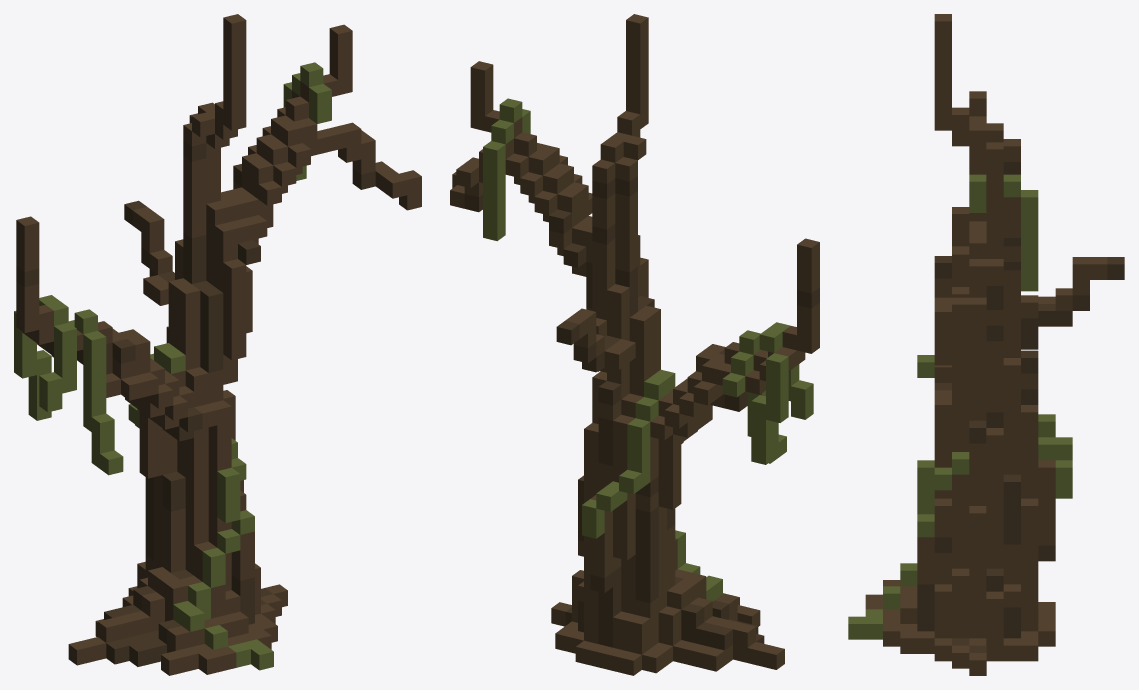
The model's file is deadtree2.vox.obj.
3 views of the same model, side by side, from view 1: azimuth 30°, elevation 25°; view 2: azimuth 150°, elevation 25°; view 3: azimuth 270°, elevation 25° (orthographic). The views are drawn at different scales.
Bounding box in the file's own units: 2.6 × 4 × 1.6.
1 material, 1 textured.
